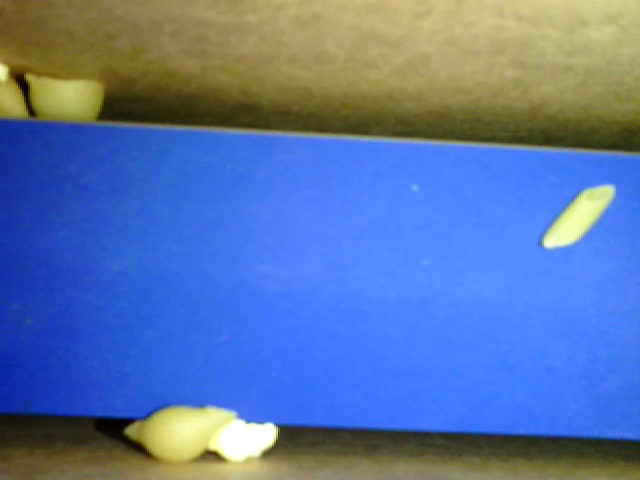penne: (542, 185, 615, 251)
shell: (123, 403, 238, 462), (24, 70, 106, 121)
